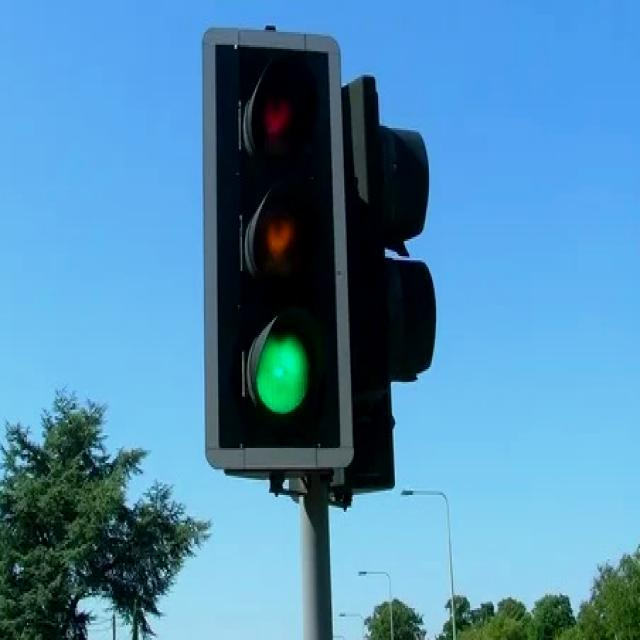yesil: (217, 43, 340, 450)
